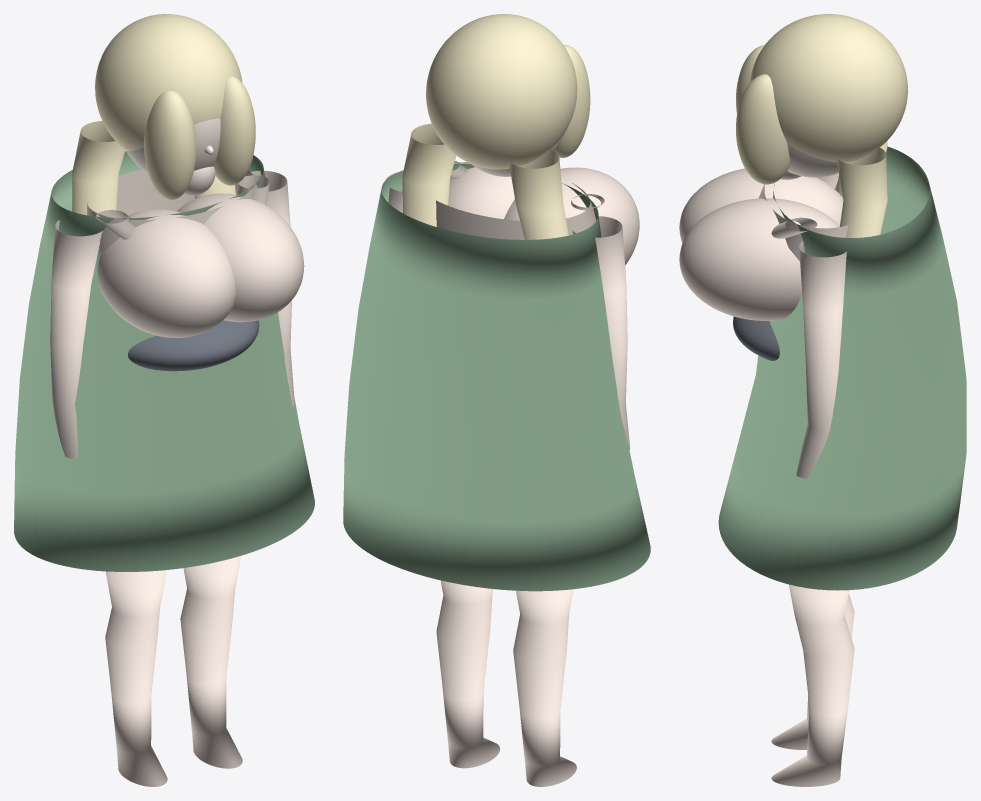
The model's file is anime_female_sculpt.glb.
The picture shows the model from 3 angles, left to right: view 1: azimuth 30°, elevation 25°; view 2: azimuth 150°, elevation 25°; view 3: azimuth 270°, elevation 25°; orthographic projection. The views are drawn at different scales.
Parts seen in each view (by area): view 1: Kimono_Haori, Chest_Bust, Hair_Ponytails, Legs_Limbs, Arms_Limbs, Waist_Abdomen, Head_Face; view 2: Kimono_Haori, Hair_Ponytails, Legs_Limbs, Chest_Bust, Arms_Limbs; view 3: Kimono_Haori, Hair_Ponytails, Chest_Bust, Legs_Limbs, Arms_Limbs, Waist_Abdomen, Head_Face.
Boxes of the visible parts, x1,y1,x2,y2 form: Kimono_Haori: [14, 151, 314, 571]; Chest_Bust: [87, 169, 304, 337]; Hair_Ponytails: [72, 14, 255, 215]; Legs_Limbs: [105, 556, 242, 786]; Arms_Limbs: [50, 170, 294, 458]; Waist_Abdomen: [128, 320, 259, 371]; Head_Face: [126, 118, 220, 195]; Kimono_Haori: [343, 163, 650, 591]; Hair_Ponytails: [402, 14, 590, 239]; Legs_Limbs: [436, 580, 576, 786]; Chest_Bust: [436, 161, 639, 264]; Arms_Limbs: [386, 173, 630, 449]; Kimono_Haori: [718, 146, 966, 590]; Hair_Ponytails: [736, 14, 907, 237]; Chest_Bust: [679, 168, 848, 320]; Legs_Limbs: [771, 584, 854, 786]; Arms_Limbs: [796, 173, 846, 478]; Waist_Abdomen: [733, 316, 779, 360]; Head_Face: [780, 143, 838, 179].
Bounding box in the file's own units: 0.7 × 1.78 × 0.6254.
